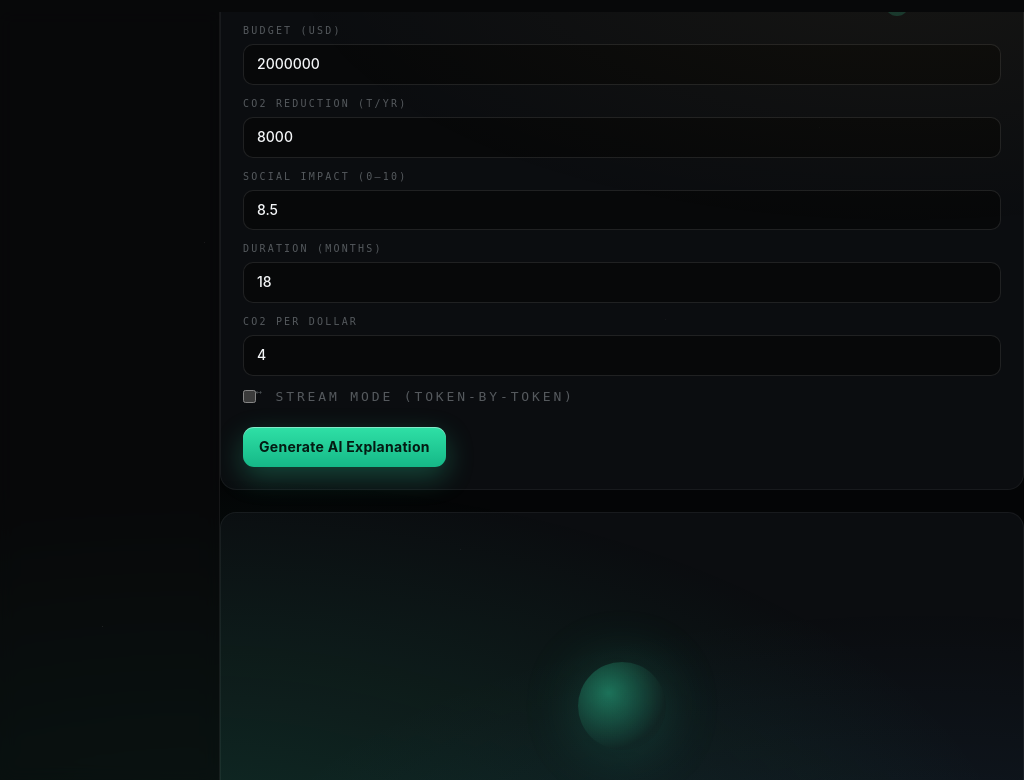
Test: CopilotPage (production path) › shows the model as unknown for a streamed answer, which carries no version (F021)
(page scrolled)
Click the checkbox labelled "⃡ Stream mode (token-by-token)" at (250, 396), box [243,390,256,403]
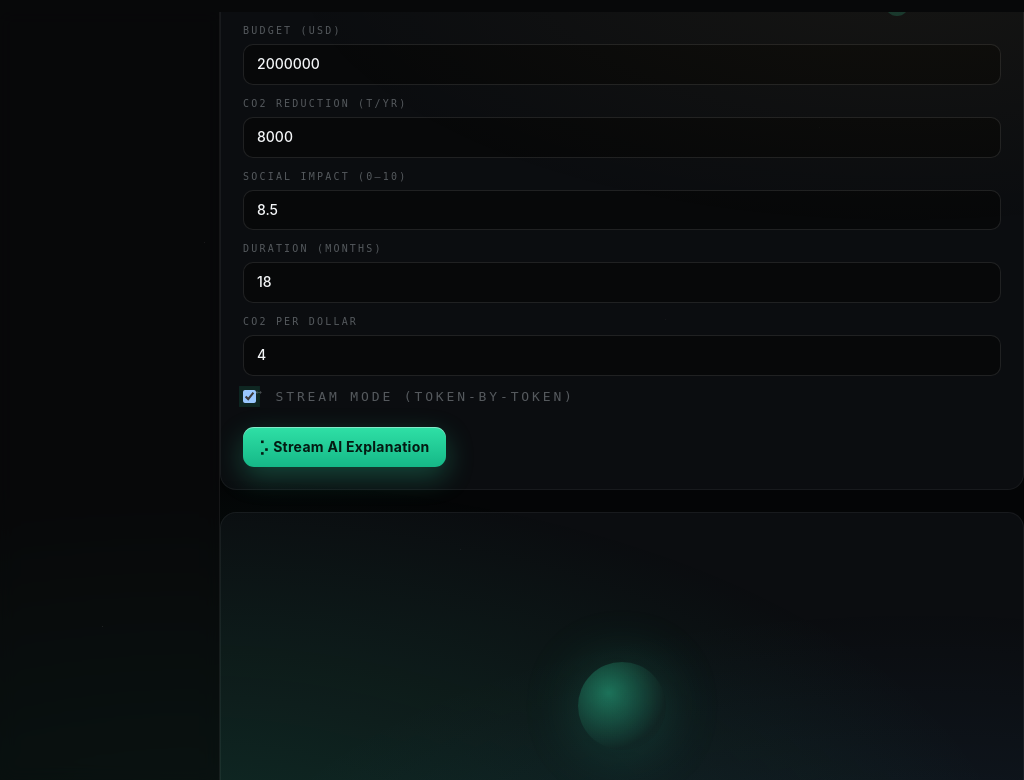
Click the button "⡡ Stream AI Explanation" at (344, 447), box [243,427,446,467]
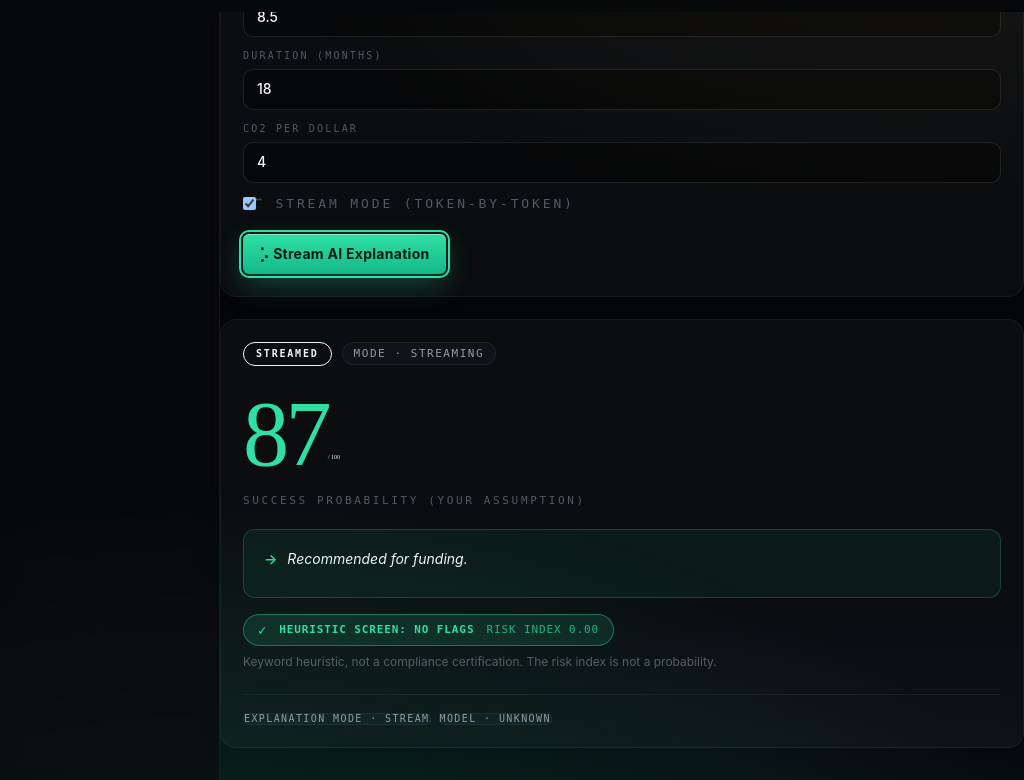
Result: the text "Recommended for funding." is shown at [287,548,468,571]
Result: the text "Model · unknown" is shown at [438,714,552,726]
